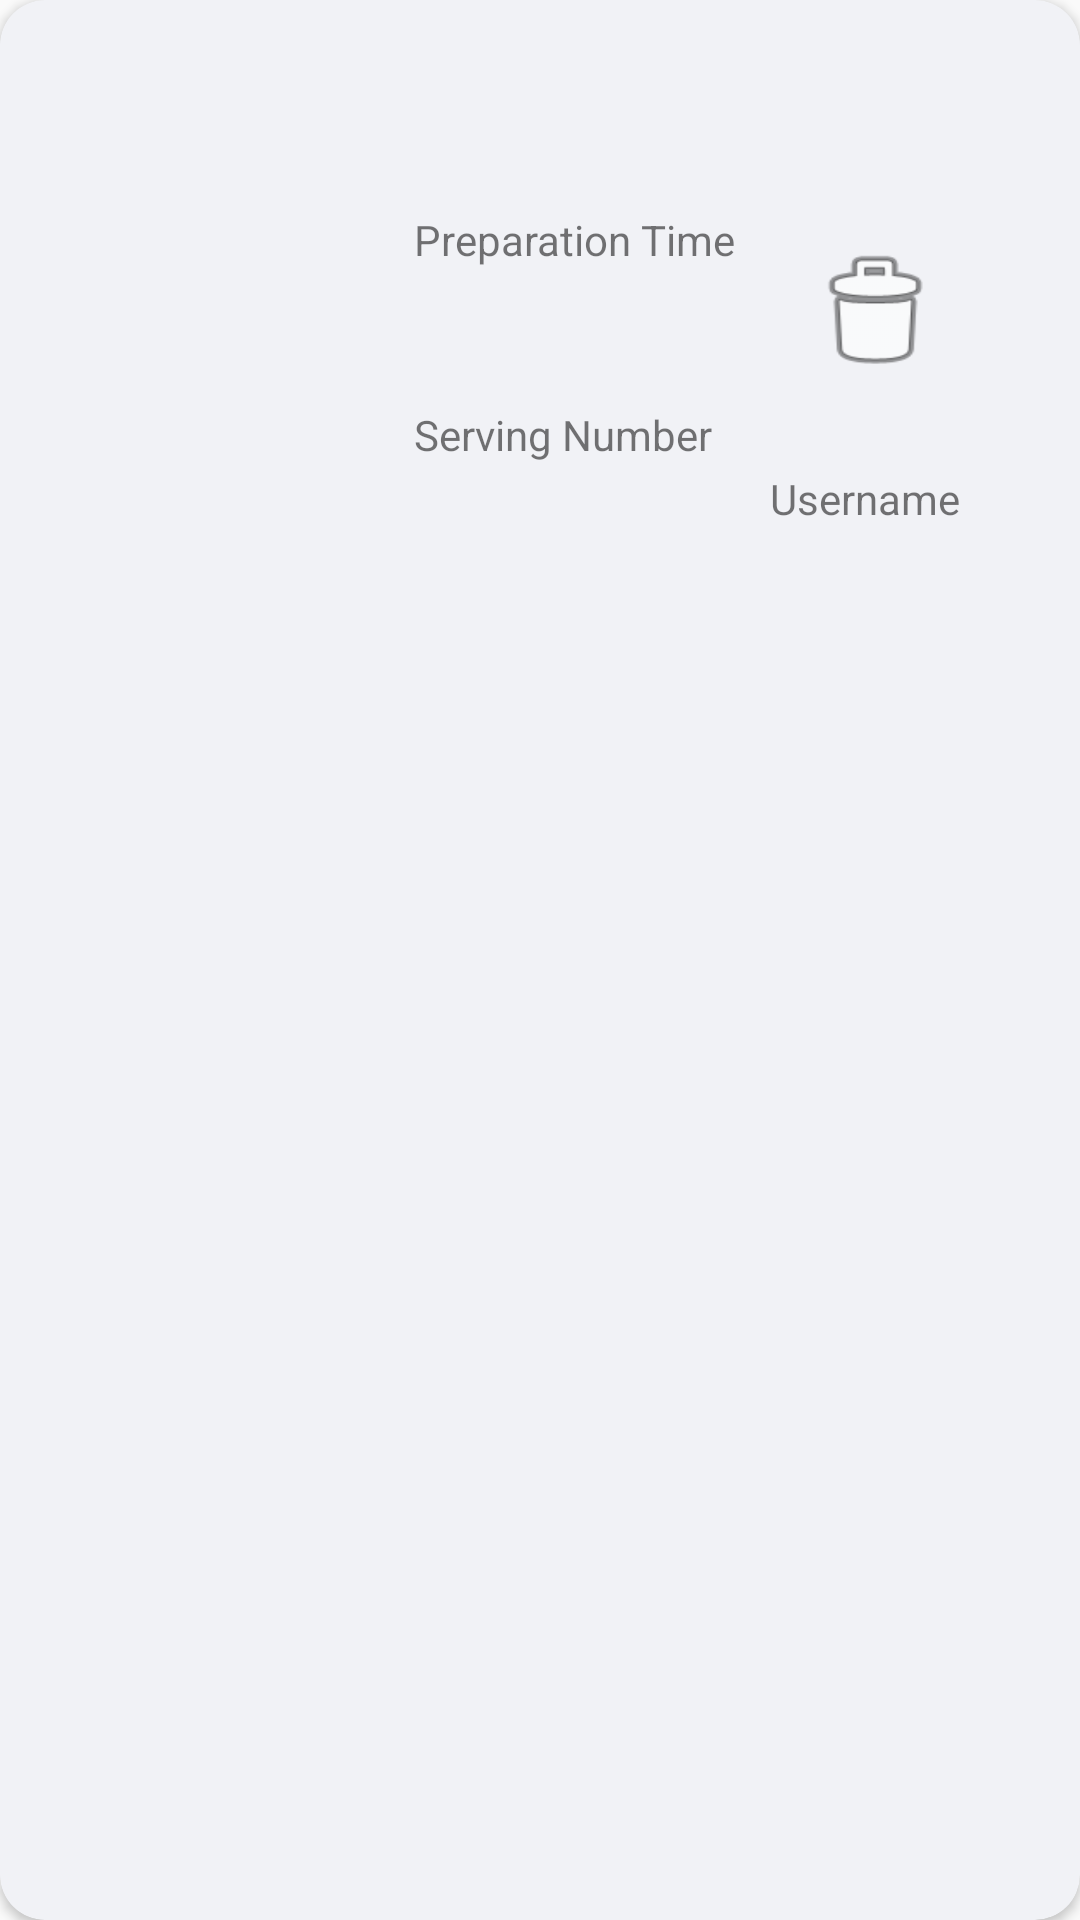

Icons on this 1080*1920 Android screen, each with its box as [x1=x1, y1=y1, x2=x2, y2=y2]:
delete: [x1=829, y1=256, x2=922, y2=364]
